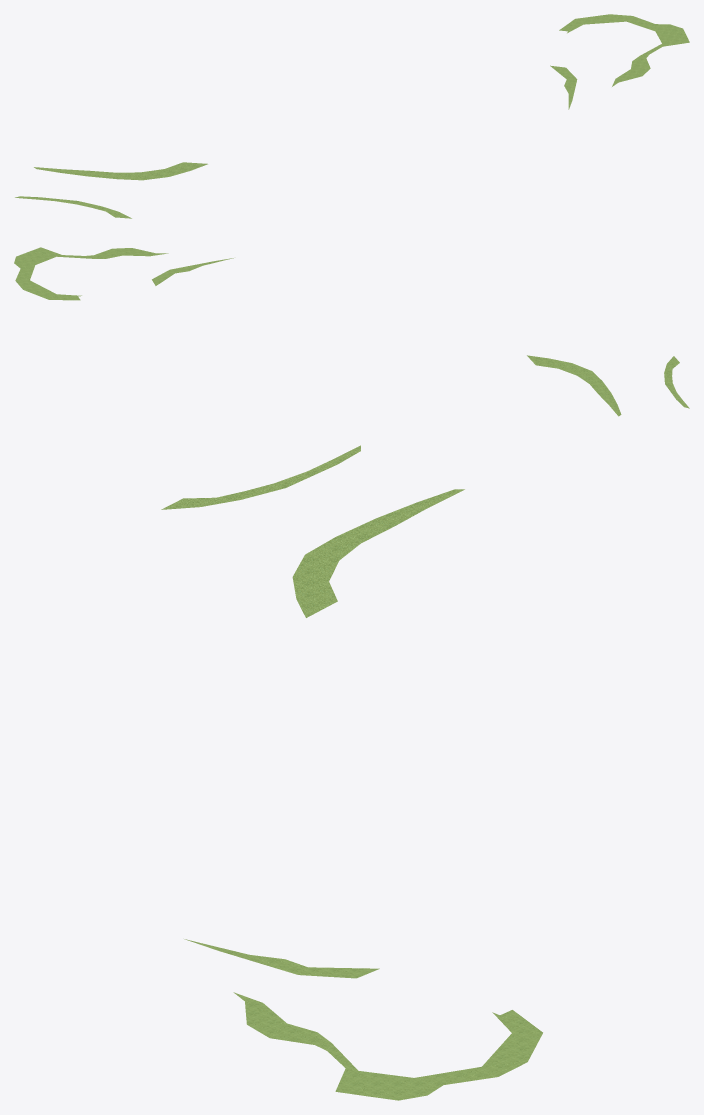
The model's file is kd_stage_13612f_5_18_bounded.glb.
3 views of the same model, one above another, from view 1: azimuth 30°, elevation 25°; view 2: azimuth 150°, elevation 25°; view 3: azimuth 270°, elevation 25° (orthographic). The views are drawn at different scales.
Visible parts, largest first — view 1: kd_stage_13612f_5_18_bounded; view 2: kd_stage_13612f_5_18_bounded; view 3: kd_stage_13612f_5_18_bounded.
Part boxes in pixels (box(x1,y1,x2,y2)): kd_stage_13612f_5_18_bounded: box(15, 14, 689, 218); kd_stage_13612f_5_18_bounded: box(14, 247, 689, 416); kd_stage_13612f_5_18_bounded: box(161, 445, 542, 1100).
Size of the model in its own units: 14.67 by 0.07 by 3.66.
1 material, 1 textured.
